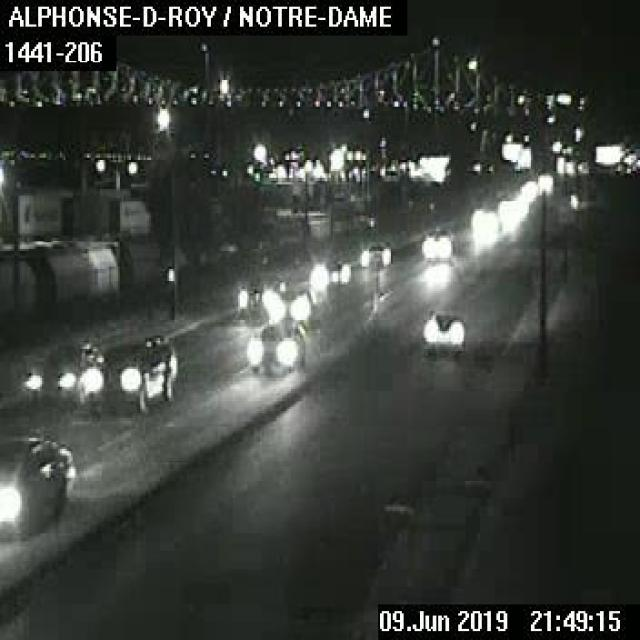vehicle: (0, 429, 78, 544), (77, 334, 182, 416), (23, 338, 106, 404), (244, 319, 303, 373), (234, 269, 282, 319), (416, 307, 466, 351), (260, 285, 314, 324), (309, 257, 350, 289), (420, 225, 453, 259), (358, 238, 391, 266)
